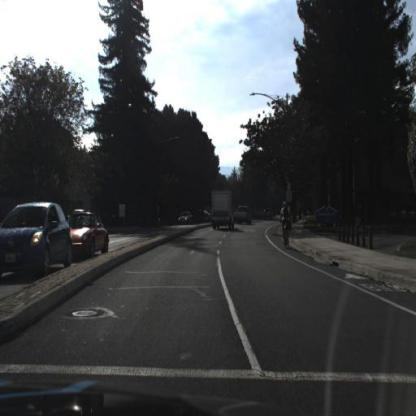biker: (278, 198, 296, 253)
car: (1, 204, 74, 277), (66, 210, 112, 262), (235, 205, 256, 228), (178, 209, 196, 225)
truck: (210, 190, 236, 236)
